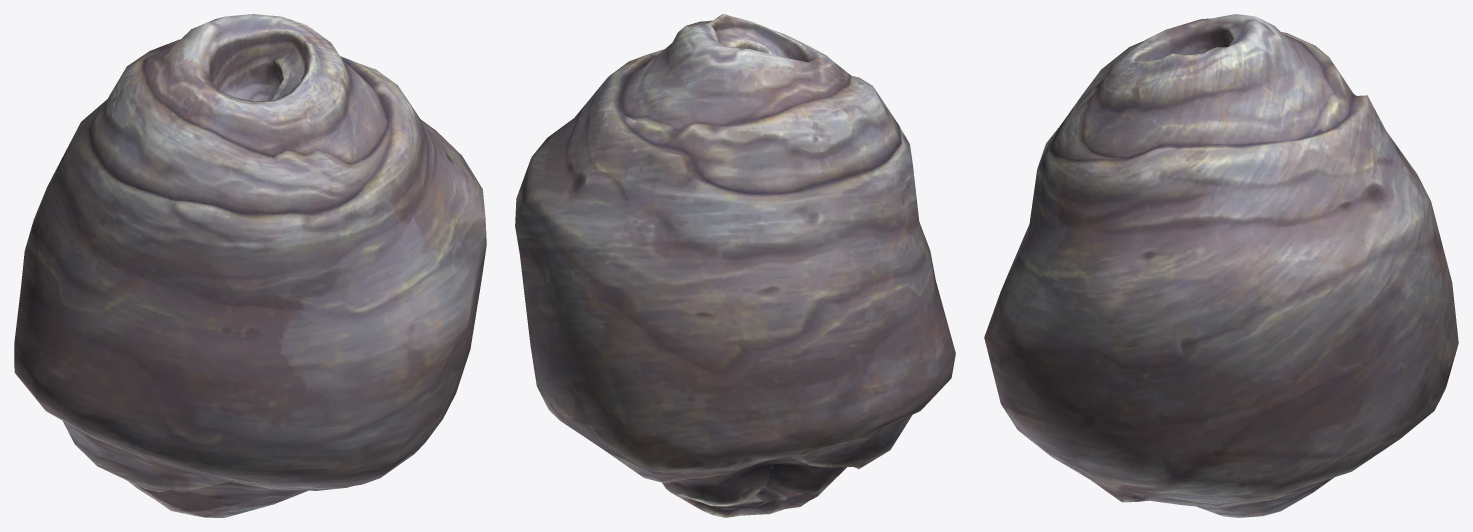
3 renders of one model, left to right at view 1: azimuth 30°, elevation 25°; view 2: azimuth 150°, elevation 25°; view 3: azimuth 270°, elevation 25°, orthographic. The views are drawn at different scales.
Visible parts, largest first — view 1: SM_Kalphite_Nest_Decorative_01_LOD0; view 2: SM_Kalphite_Nest_Decorative_01_LOD0; view 3: SM_Kalphite_Nest_Decorative_01_LOD0.
Part boxes in pixels (box(x1,y1,x2,y2)): SM_Kalphite_Nest_Decorative_01_LOD0: box(14, 14, 486, 517); SM_Kalphite_Nest_Decorative_01_LOD0: box(515, 14, 955, 517); SM_Kalphite_Nest_Decorative_01_LOD0: box(984, 14, 1458, 517).
Bounding box in the file's own units: 2.09 × 2.38 × 2.08.
1 material, 1 textured.
